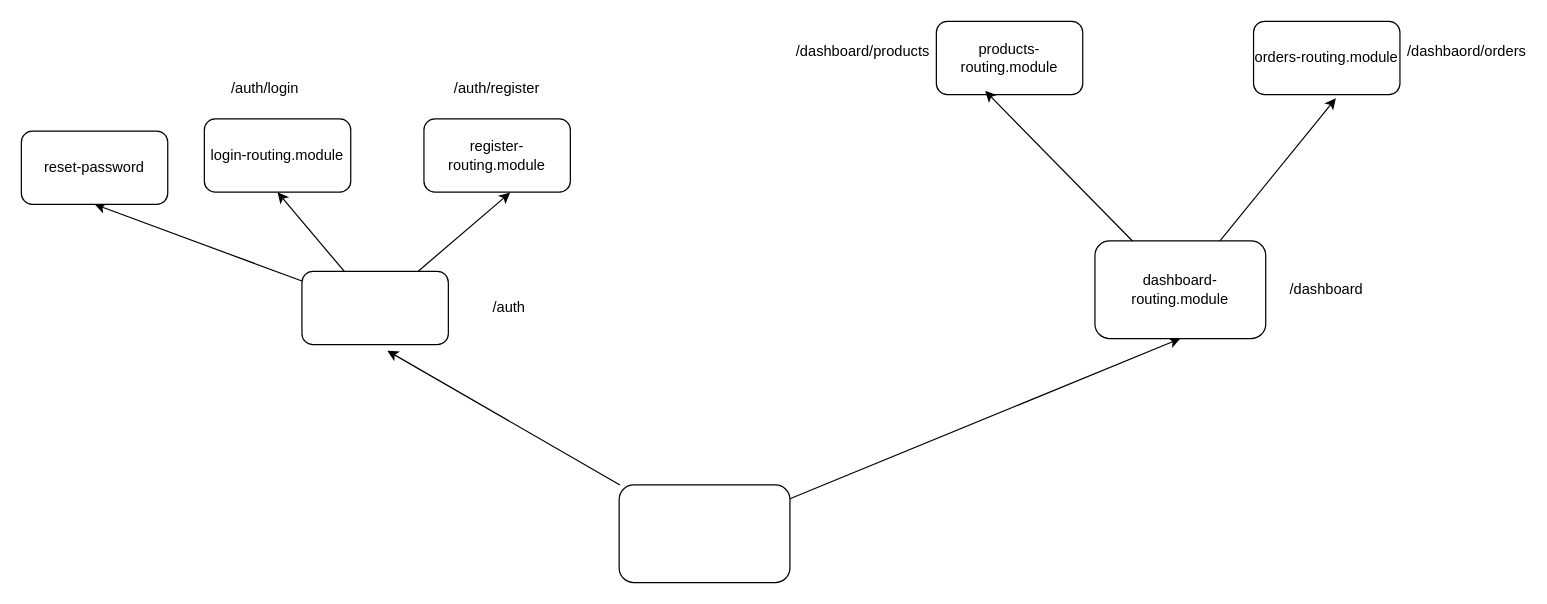
Some shapes in this 1547 by 604 pixel diagram are drawn without their labels. Each missing label, with the box of its shape:
app-routing.module: (618, 484, 790, 583)
auth-routing.module: (301, 270, 448, 345)
